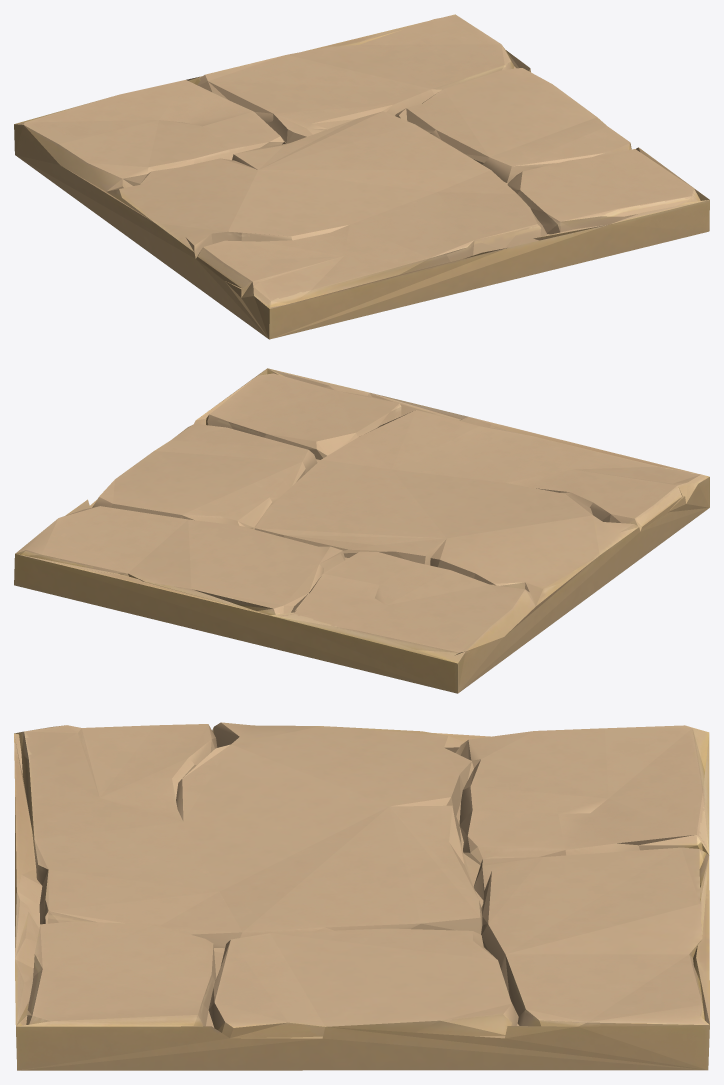
The model's file is TWN_FLR_plaza_A.glb.
3 renders of one model, top to bottom at view 1: azimuth 30°, elevation 25°; view 2: azimuth 150°, elevation 25°; view 3: azimuth 270°, elevation 25°, orthographic. The views are drawn at different scales.
Parts seen in each view (by area): view 1: Mesh_0; view 2: Mesh_0; view 3: Mesh_0.
Boxes of the visible parts, box(x1,y1,x2,y2) form: Mesh_0: box(14, 14, 709, 339); Mesh_0: box(14, 368, 709, 693); Mesh_0: box(14, 722, 709, 1070).
Size of the model in its own units: 1.9 by 0.1723 by 1.88.
Materials: 1 (1 with a texture image).
